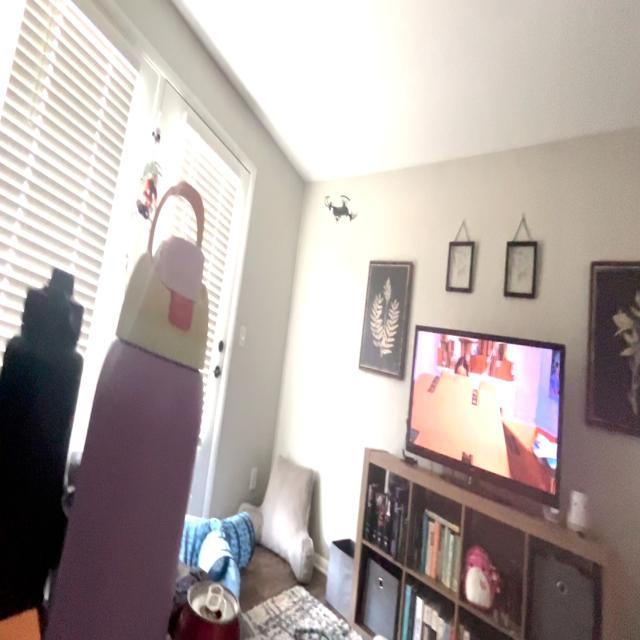drone: (316, 180, 364, 239)
